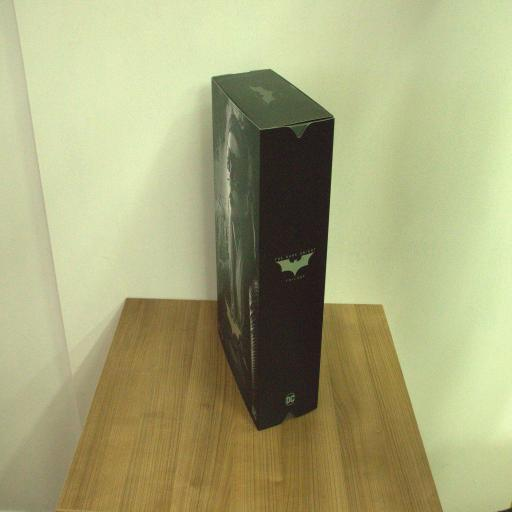catwoman: (211, 69, 335, 430)
